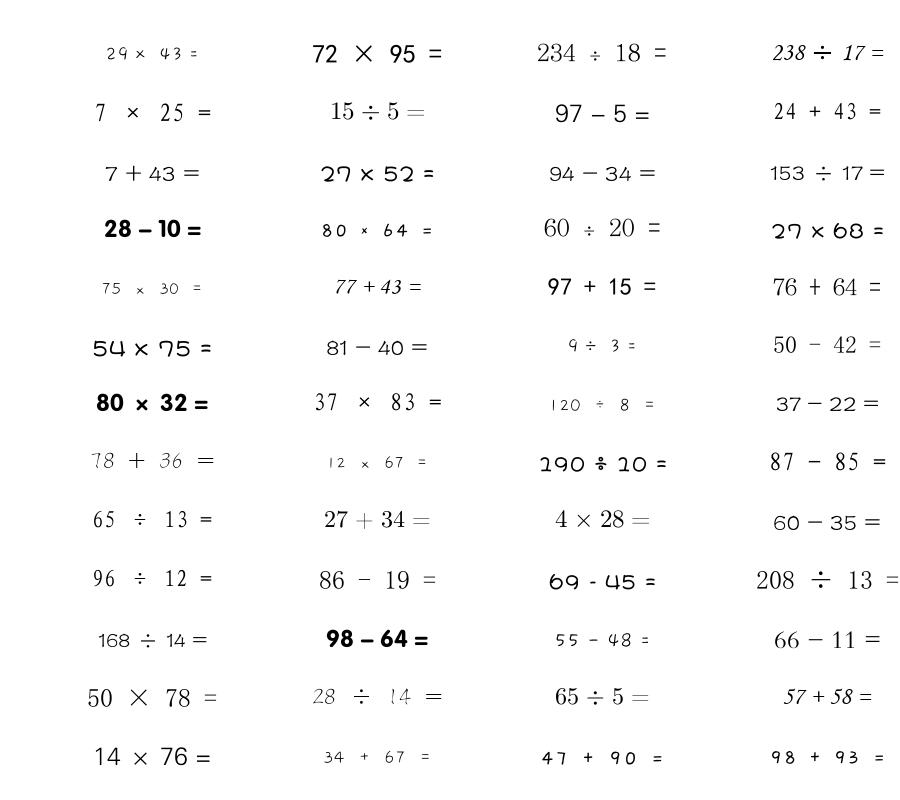MQ: (756, 570, 899, 589), (312, 44, 442, 63), (537, 43, 667, 62), (87, 689, 217, 707), (313, 393, 442, 411), (93, 747, 211, 766), (312, 688, 443, 705), (94, 103, 211, 122), (544, 218, 661, 237), (769, 452, 886, 471), (319, 570, 436, 589), (92, 510, 212, 528), (92, 569, 212, 587), (96, 393, 208, 412), (90, 452, 215, 469), (538, 456, 667, 472), (92, 340, 212, 357), (324, 510, 431, 529), (773, 102, 881, 120), (773, 278, 881, 296), (326, 629, 428, 648), (774, 631, 881, 649), (771, 44, 884, 61), (771, 222, 884, 239), (104, 219, 201, 238), (320, 166, 435, 182), (548, 278, 656, 295), (773, 336, 881, 353), (549, 573, 656, 590), (555, 104, 650, 123), (540, 751, 664, 765), (770, 166, 885, 181), (549, 166, 656, 182), (330, 102, 425, 120), (555, 510, 650, 528), (555, 687, 650, 705), (98, 633, 207, 648), (326, 340, 428, 356), (773, 515, 881, 530), (105, 165, 200, 182), (320, 223, 434, 237), (782, 688, 872, 705), (323, 750, 432, 764), (769, 751, 886, 764), (548, 398, 656, 412), (776, 397, 879, 411), (554, 633, 650, 648), (101, 282, 203, 295), (326, 456, 428, 469), (333, 279, 421, 294), (105, 47, 199, 61), (567, 339, 637, 353)
